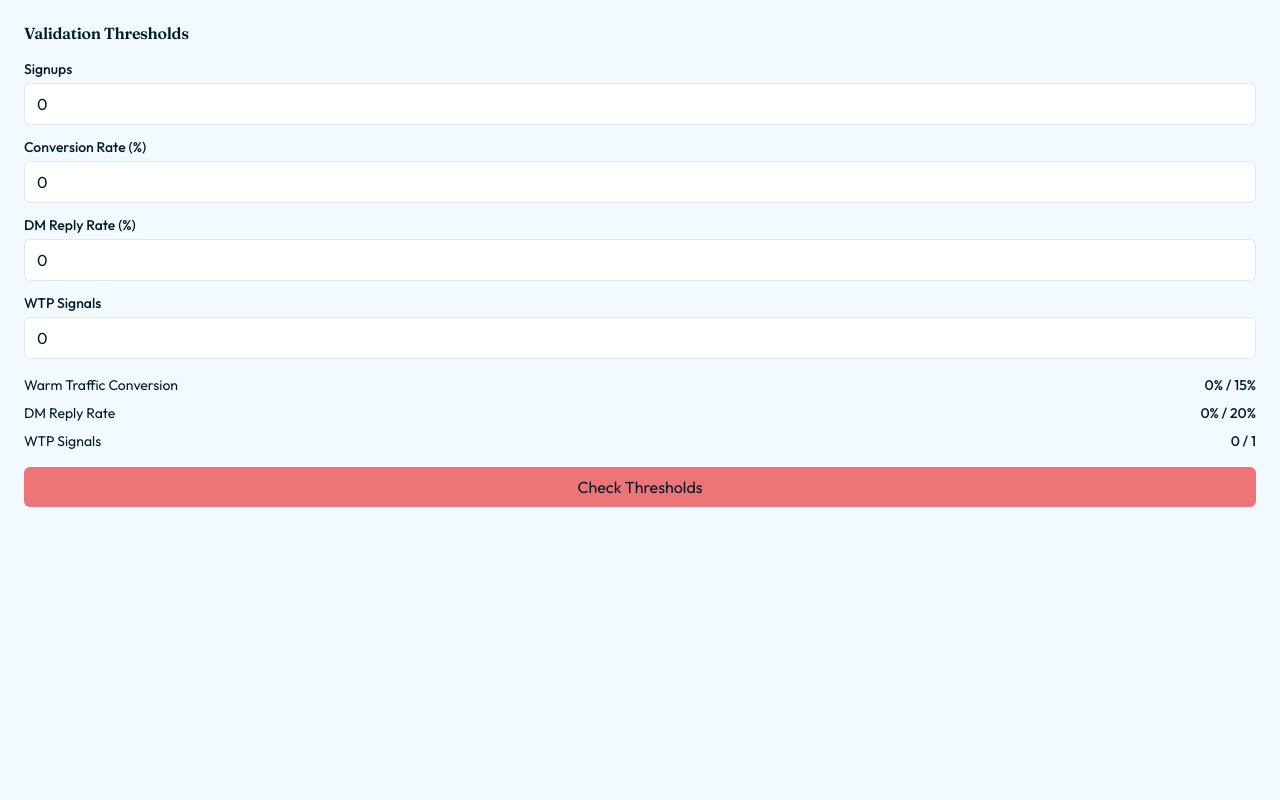
Test: ValidationThresholds › announces status updates to screen readers
The width and height of the screenshot is (1280, 800).
Replace the text in the number field labelled "Signups" with "10" at (640, 104), box x1=24 y1=83 x2=1256 y2=125
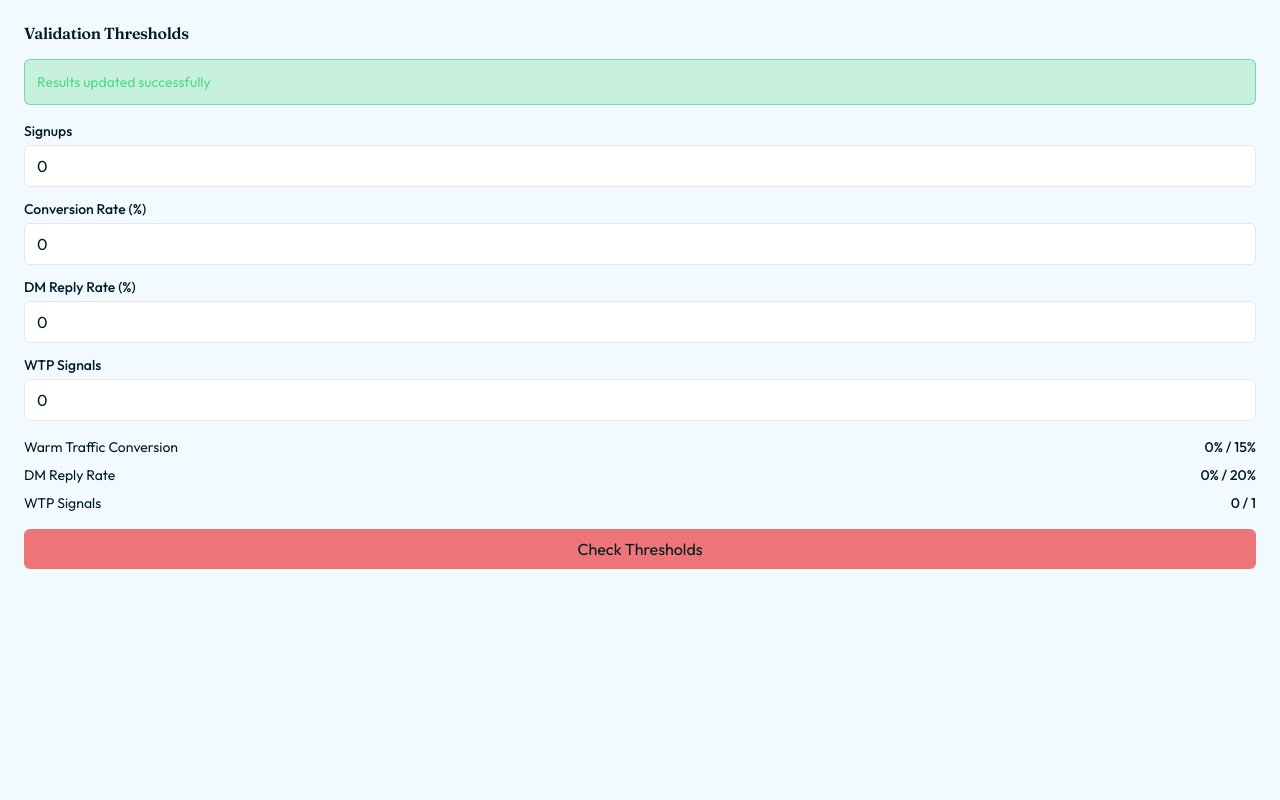
Check: the message "Results updated successfully" is shown, box x1=24 y1=59 x2=1256 y2=105
